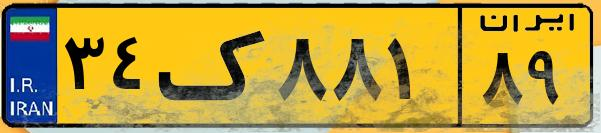1: (385, 28, 445, 110)
3: (57, 26, 110, 100)
4: (110, 28, 158, 98)
8: (270, 28, 330, 110), (330, 28, 385, 110), (475, 38, 525, 113)
9: (525, 38, 570, 115)
ک: (158, 12, 270, 120)
